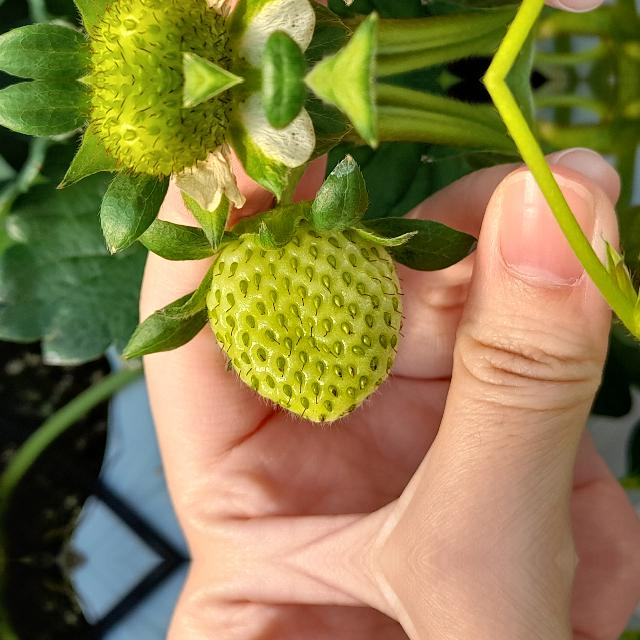Health_25: (204, 226, 406, 428), (80, 80, 236, 180), (80, 0, 235, 80)
